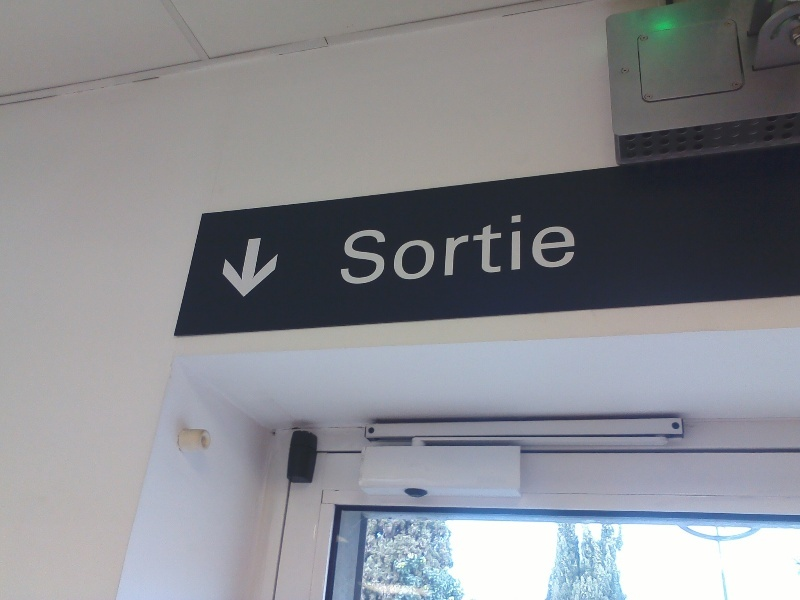text: (561, 210, 577, 286), (353, 210, 368, 286), (369, 210, 384, 286), (385, 210, 400, 286), (401, 210, 416, 286), (417, 210, 432, 286), (433, 210, 448, 286), (449, 210, 464, 286), (465, 210, 480, 286), (481, 210, 496, 286), (497, 210, 512, 286), (513, 210, 528, 286), (529, 210, 544, 286), (545, 210, 560, 286), (341, 210, 352, 286)
